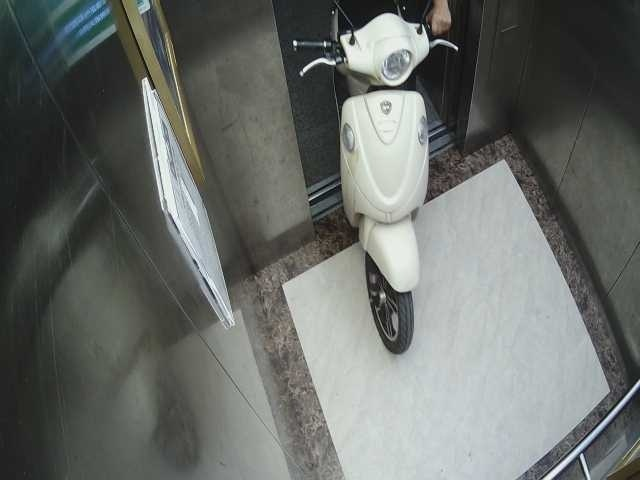emotor: (291, 5, 468, 360)
